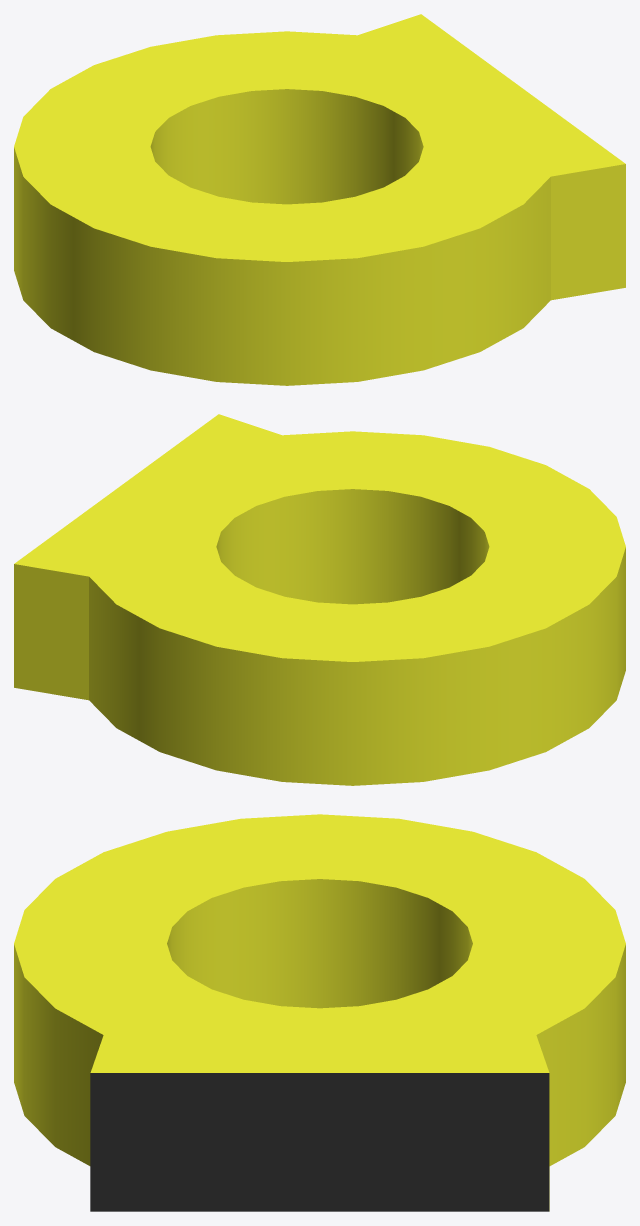
Rendered from Joint1.dae.
The picture shows the model from 3 angles, top to bottom: view 1: azimuth 30°, elevation 25°; view 2: azimuth 150°, elevation 25°; view 3: azimuth 270°, elevation 25°; orthographic projection. The views are drawn at different scales.
Visible parts, largest first — view 1: SketchUp (×2); view 2: SketchUp (×2); view 3: SketchUp (×3).
Part boxes in pixels (bbox=[...]): SketchUp (×2): bbox=[14, 14, 625, 385]; SketchUp (×2): bbox=[14, 414, 625, 785]; SketchUp (×3): bbox=[14, 814, 625, 1211].
Size of the model in its own units: 0.4 by 0.4 by 0.1.
